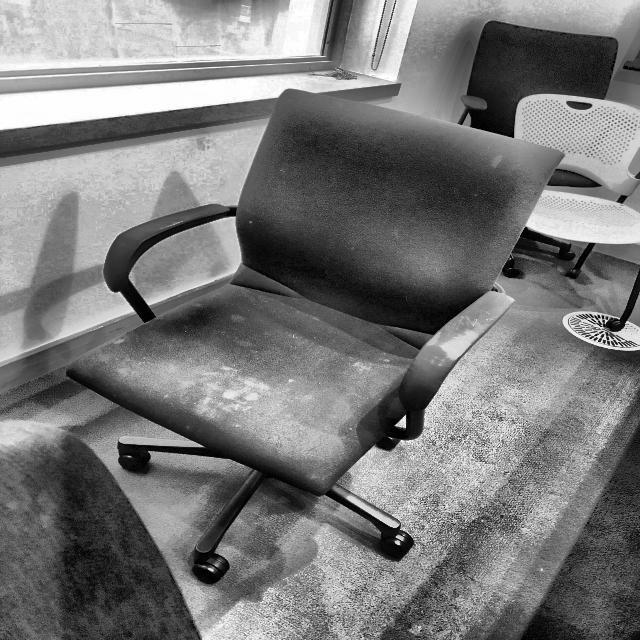chair: (64, 89, 572, 587)
